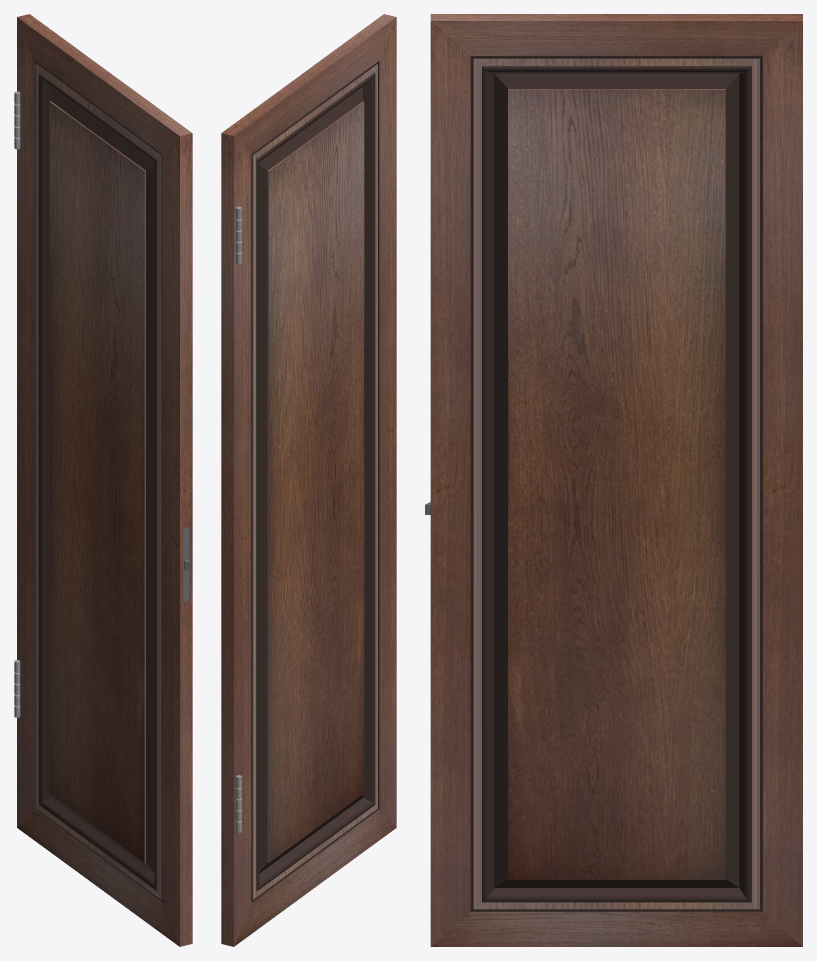
The model's file is 48_ROYAL_Door.glb.
The picture shows the model from 3 angles, left to right: view 1: azimuth 30°, elevation 25°; view 2: azimuth 150°, elevation 25°; view 3: azimuth 270°, elevation 25°; orthographic projection. The views are drawn at different scales.
Parts seen in each view (by area): view 1: 48_ROYAL_Door; view 2: 48_ROYAL_Door; view 3: 48_ROYAL_Door.
Boxes of the visible parts, x1,y1,x2,y2 form: 48_ROYAL_Door: (14, 14, 192, 946); 48_ROYAL_Door: (221, 14, 396, 946); 48_ROYAL_Door: (425, 14, 802, 946).
Size of the model in its own units: 0.0535 by 2.2 by 0.8128.
Materials: 4 (1 with a texture image).
